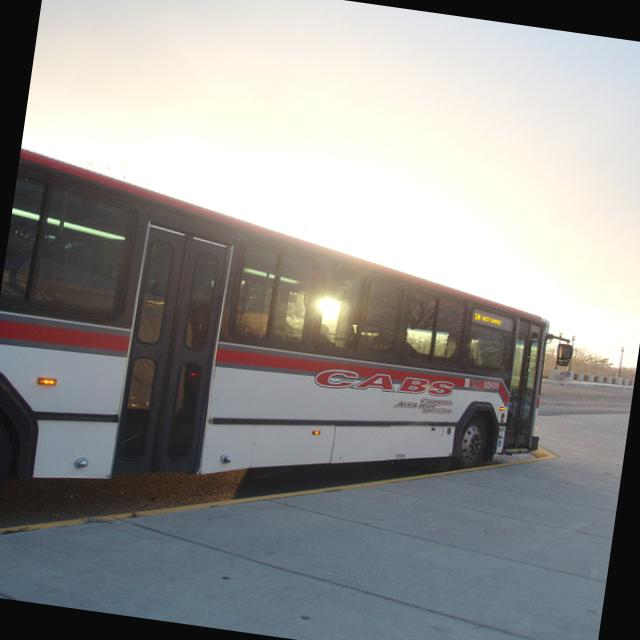Vehicle: (0, 146, 589, 606)
